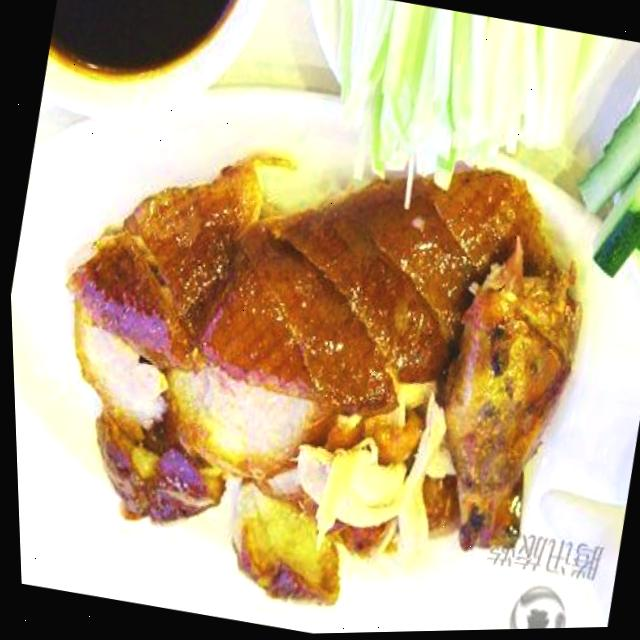烧串烤肉: (2, 64, 632, 640)
